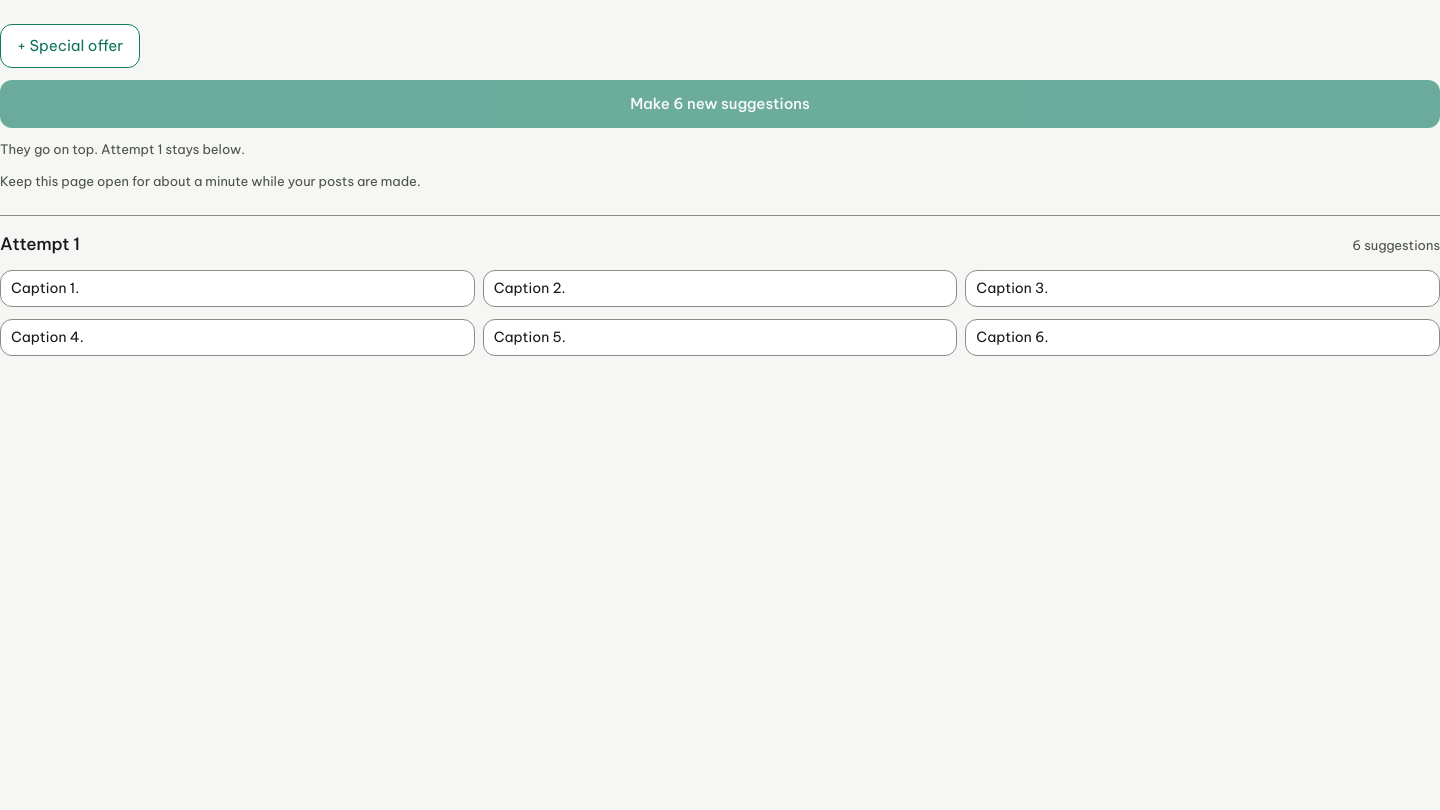
Test: the grid and the sheet › closing gives focus back to the tile
The width and height of the screenshot is (1440, 810).
Click the button "Caption 2." at (720, 288), box [483,270,957,307]
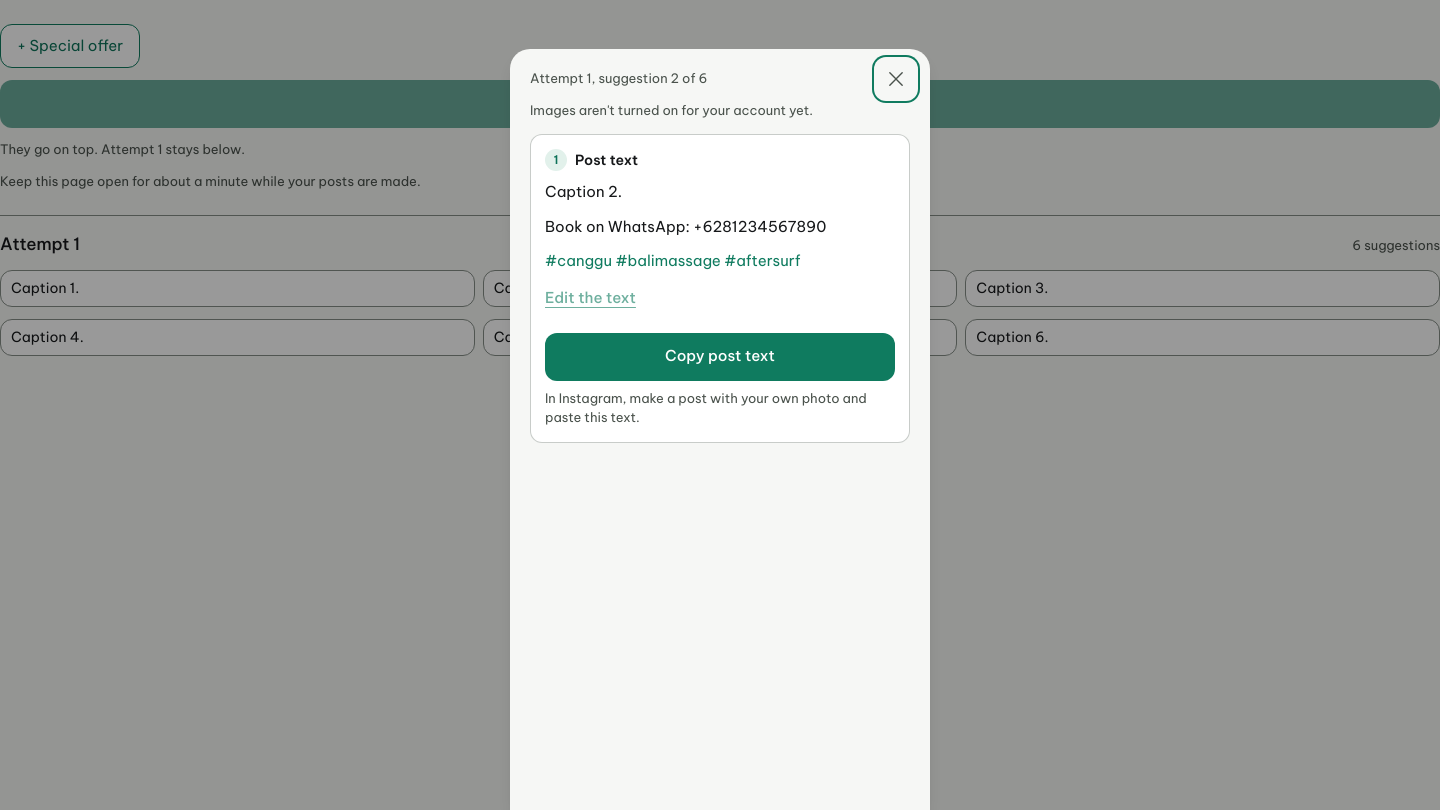
Click the button named "Close" at (896, 79), box [874,57,918,101]
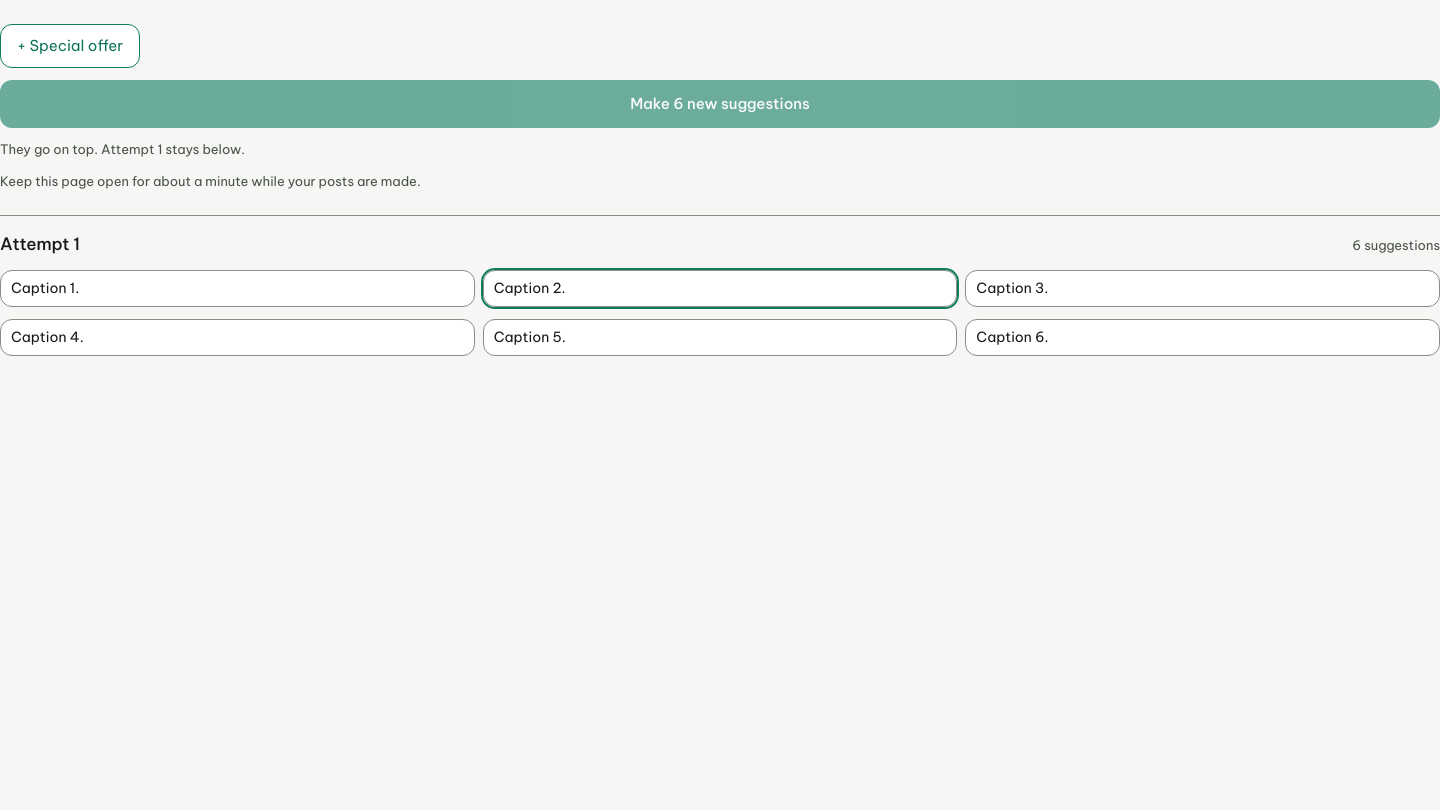
Now the dialog is gone
